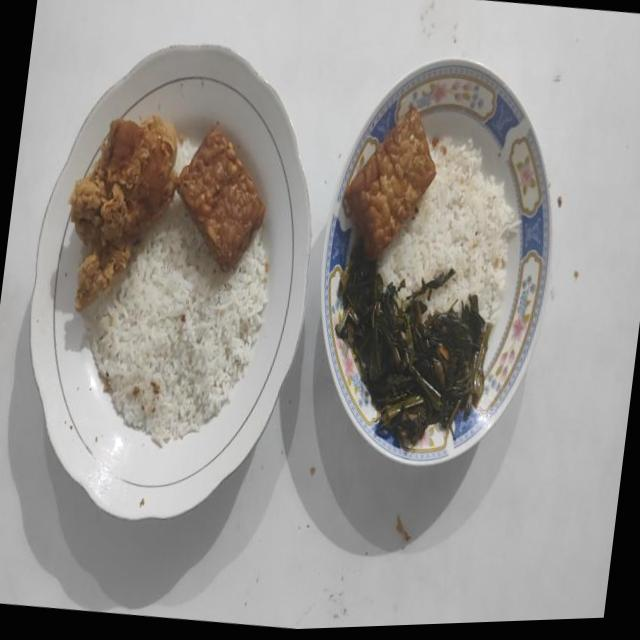nasi_putih: (84, 200, 268, 446), (376, 138, 515, 324)
tempe_goreng: (342, 109, 435, 259), (176, 126, 264, 272)
tumis_kangkung: (336, 240, 490, 450)
